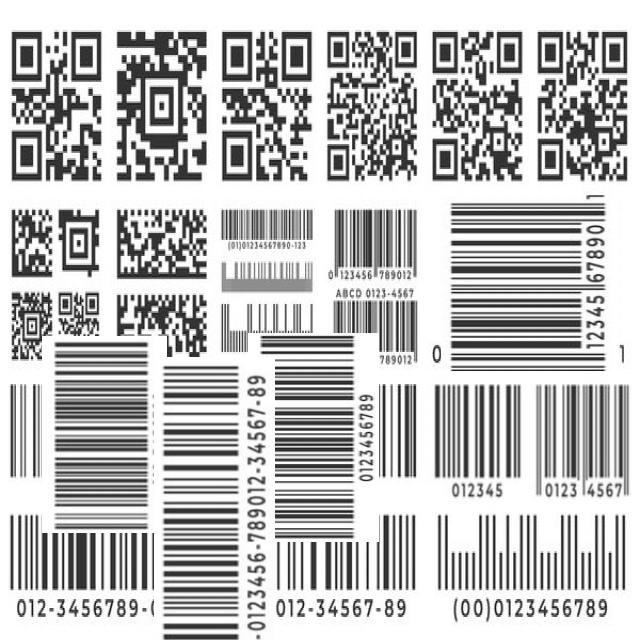Barkod: (79, 431, 349, 640), (434, 194, 626, 384), (228, 352, 400, 522), (423, 371, 632, 504), (24, 354, 185, 515)
